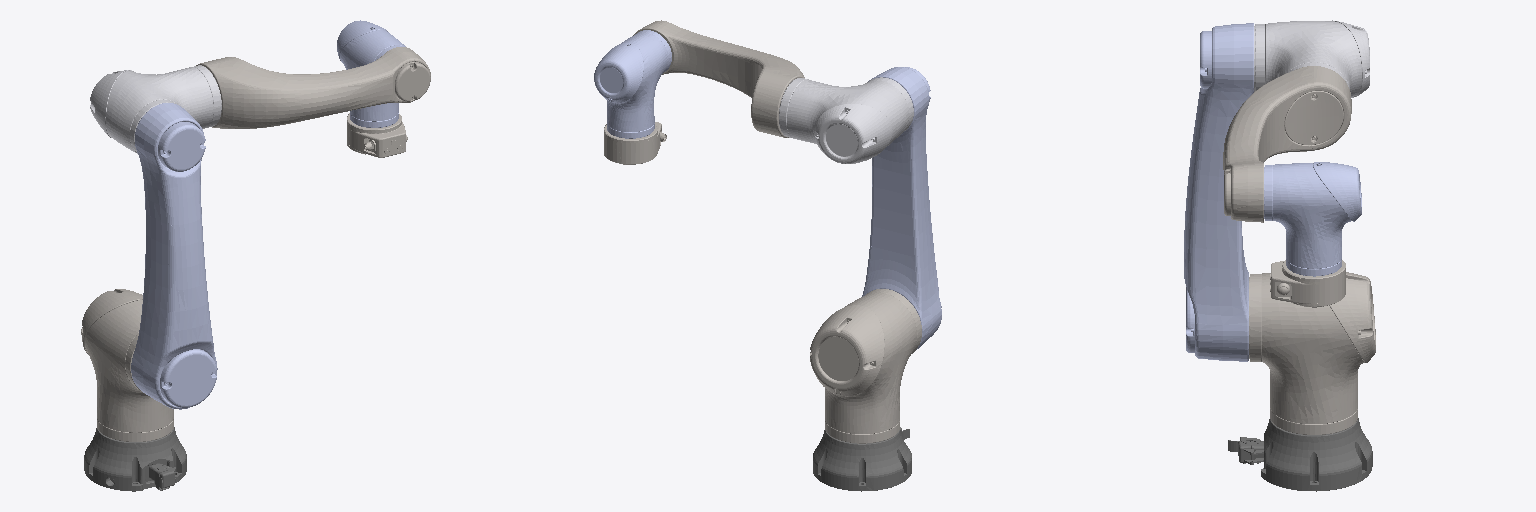
The robot description file, URDF, robot "e05":
<?xml version="1.0" ?>
<!-- =================================================================================== -->
<!-- |    This document was autogenerated by xacro from e05.xacro                      | -->
<!-- |    EDITING THIS FILE BY HAND IS NOT RECOMMENDED                                 | -->
<!-- =================================================================================== -->
<robot name="e05">
  <link name="base_link">
    <inertial>
      <origin rpy="0 0 0" xyz="0.000220925279683056 0.0013404359084179 0.0255287768765201"/>
      <mass value="0.687947665470098"/>
      <inertia ixx="0.00127042942204081" ixy="6.12560900509709E-06" ixz="1.97882529252548E-06" iyy="0.00134134377507574" iyz="1.20065256351553E-05" izz="0.00225644822073791"/>
    </inertial>
    <visual>
      <origin rpy="0 0 0" xyz="0 0 0"/>
      <geometry>
        <mesh filename="package://e05_mujoco/meshes/e05/base_link.STL"/>
      </geometry>
      <material name="">
        <color rgba="0.501960784313725 0.501960784313725 0.501960784313725 1"/>
      </material>
    </visual>
    <collision>
      <origin rpy="0 0 0" xyz="0 0 0"/>
      <geometry>
        <mesh filename="package://e05_mujoco/meshes/e05/base_link.STL"/>
      </geometry>
    </collision>
  </link>
  <link name="link1">
    <inertial>
      <origin rpy="0 0 0" xyz="-0.021817530046653 -1.3461811186172E-05 0.0953928187148821"/>
      <mass value="2.58559317983858"/>
      <inertia ixx="0.0126359214490294" ixy="1.95671999360454E-06" ixz="0.00341757743534139" iyy="0.014361538845938" iyz="1.7981198383057E-06" izz="0.00661175953100069"/>
    </inertial>
    <visual>
      <origin rpy="0 0 0" xyz="0 0 0"/>
      <geometry>
        <mesh filename="package://e05_mujoco/meshes/e05/link1.STL"/>
      </geometry>
      <material name="">
        <color rgba="0.772549019607843 0.752941176470588 0.733333333333333 1"/>
      </material>
    </visual>
    <collision>
      <origin rpy="0 0 0" xyz="0 0 0"/>
      <geometry>
        <mesh filename="package://e05_mujoco/meshes/e05/link1.STL"/>
      </geometry>
    </collision>
  </link>
  <joint name="joint1" type="revolute">
    <!-- <origin xyz="0 0 0.0735" rpy="0 0 0" /> -->
    <origin rpy="0 0 1.5707963267949" xyz="0 0 0.0735"/>
    <parent link="base_link"/>
    <child link="link1"/>
    <axis xyz="0 0 1"/>
    <limit effort="100" lower="-3.14" upper="3.14" velocity="3"/>
  </joint>
  <link name="link2">
    <inertial>
      <origin rpy="0 0 0" xyz="4.42659189303178E-06 -0.15814020171601 0.130500502107941"/>
      <mass value="1.21311220206786"/>
      <inertia ixx="0.0154675665168731" ixy="-1.06933815462951E-06" ixz="-1.18860294267838E-07" iyy="0.00151358792659383" iyz="-0.000483103253081459" izz="0.0159645957037545"/>
    </inertial>
    <visual>
      <origin rpy="0 0 0" xyz="0 0 0"/>
      <geometry>
        <mesh filename="package://e05_mujoco/meshes/e05/link2.STL"/>
      </geometry>
      <material name="">
        <color rgba="0.792156862745098 0.819607843137255 0.933333333333333 1"/>
      </material>
    </visual>
    <collision>
      <origin rpy="0 0 0" xyz="0 0 0"/>
      <geometry>
        <mesh filename="package://e05_mujoco/meshes/e05/link2.STL"/>
      </geometry>
    </collision>
  </link>
  <joint name="joint2" type="revolute">
    <origin rpy="-1.5707963267949 0 1.5707963267949" xyz="0 0 0.146499999728183"/>
    <parent link="link1"/>
    <child link="link2"/>
    <axis xyz="0 0 -1"/>
    <limit effort="100" lower="-3.14" upper="3.14" velocity="3"/>
  </joint>
  <link name="link3">
    <inertial>
      <origin rpy="0 0 0" xyz="-0.0414785547217519 1.14212505951949E-05 0.0194163580548062"/>
      <mass value="1.53239082736874"/>
      <inertia ixx="0.00289257298716264" ixy="3.06530616185161E-07" ixz="-0.00148343229721932" iyy="0.00608825361524431" iyz="-5.7781567767453E-07" izz="0.00514001710646295"/>
    </inertial>
    <visual>
      <origin rpy="0 0 0" xyz="0 0 0"/>
      <geometry>
        <mesh filename="package://e05_mujoco/meshes/e05/link3.STL"/>
      </geometry>
      <material name="">
        <color rgba="0.866666666666667 0.866666666666667 0.890196078431372 1"/>
      </material>
    </visual>
    <collision>
      <origin rpy="0 0 0" xyz="0 0 0"/>
      <geometry>
        <mesh filename="package://e05_mujoco/meshes/e05/link3.STL"/>
      </geometry>
    </collision>
  </link>
  <joint name="joint3" type="revolute">
    <!-- <origin xyz="0 -0.38 0" rpy="0 0 1.57079632679489" /> -->
    <origin rpy="0 0 0" xyz="0 -0.38 0"/>
    <parent link="link2"/>
    <child link="link3"/>
    <axis xyz="0 0 -1"/>
    <limit effort="100" lower="-3.14" upper="3.14" velocity="3"/>
  </joint>
  <link name="link4">
    <inertial>
      <origin rpy="0 0 0" xyz="3.82379731650006E-05 -0.0589656283635258 -0.257080659964351"/>
      <mass value="0.475189116858237"/>
      <inertia ixx="0.00538321597965876" ixy="5.88191352016139E-07" ixz="2.51380819480274E-06" iyy="0.00486407883174174" iyz="-0.0012949821760315" izz="0.00118854539663347"/>
    </inertial>
    <visual>
      <origin rpy="0 0 0" xyz="0 0 0"/>
      <geometry>
        <mesh filename="package://e05_mujoco/meshes/e05/link4.STL"/>
      </geometry>
      <material name="">
        <color rgba="0.772549019607843 0.752941176470588 0.733333333333333 1"/>
      </material>
    </visual>
    <collision>
      <origin rpy="0 0 0" xyz="0 0 0"/>
      <geometry>
        <mesh filename="package://e05_mujoco/meshes/e05/link4.STL"/>
      </geometry>
    </collision>
  </link>
  <joint name="joint4" type="revolute">
    <origin rpy="-1.5707963267949 0 -1.57079632679489" xyz="0 0 0"/>
    <parent link="link3"/>
    <child link="link4"/>
    <axis xyz="0 0 1"/>
    <limit effort="100" lower="-3.14" upper="3.14" velocity="3"/>
  </joint>
  <link name="link5">
    <inertial>
      <origin rpy="0 0 0" xyz="1.42418460181785E-06 0.0365906117084953 -0.0159721548504695"/>
      <mass value="0.811918650983764"/>
      <inertia ixx="0.00229898051081146" ixy="-5.10817363805077E-09" ixz="-4.20348106546399E-08" iyy="0.00102314555994569" iyz="-0.000567279919860914" izz="0.00189010227085576"/>
    </inertial>
    <visual>
      <origin rpy="0 0 0" xyz="0 0 0"/>
      <geometry>
        <mesh filename="package://e05_mujoco/meshes/e05/link5.STL"/>
      </geometry>
      <material name="">
        <color rgba="0.792156862745098 0.819607843137255 0.933333333333333 1"/>
      </material>
    </visual>
    <collision>
      <origin rpy="0 0 0" xyz="0 0 0"/>
      <geometry>
        <mesh filename="package://e05_mujoco/meshes/e05/link5.STL"/>
      </geometry>
    </collision>
  </link>
  <joint name="joint5" type="revolute">
    <!-- <origin xyz="0 0 -0.42" rpy="-1.5708 0 0" /> -->
    <origin rpy="-1.5708 1.5708 0" xyz="0 0 -0.42"/>
    <parent link="link4"/>
    <child link="link5"/>
    <axis xyz="0 0 1"/>
    <limit effort="100" lower="-3.14" upper="3.14" velocity="3"/>
  </joint>
  <link name="link6">
    <inertial>
      <origin rpy="0 0 0" xyz="-3.20651942295259E-05 0.00725491905169374 -0.0214379588098472"/>
      <mass value="0.113428742525395"/>
      <inertia ixx="7.66530651028687E-05" ixy="-1.83940830200086E-07" ixz="4.80935616864806E-08" iyy="7.49230724493532E-05" iyz="2.34293413050866E-06" izz="0.000127800814887741"/>
    </inertial>
    <visual>
      <origin rpy="0 0 0" xyz="0 0 0"/>
      <geometry>
        <mesh filename="package://e05_mujoco/meshes/e05/link6.STL"/>
      </geometry>
      <material name="">
        <color rgba="0.776470588235294 0.756862745098039 0.737254901960784 1"/>
      </material>
    </visual>
    <collision>
      <origin rpy="0 0 0" xyz="0 0 0"/>
      <geometry>
        <mesh filename="package://e05_mujoco/meshes/e05/link6.STL"/>
      </geometry>
    </collision>
  </link>
  <joint name="joint6" type="revolute">
    <origin rpy="-1.5708 0 0" xyz="0 0.155 0"/>
    <parent link="link5"/>
    <child link="link6"/>
    <axis xyz="0 0 -1"/>
    <limit effort="100" lower="-3.14" upper="3.14" velocity="3"/>
  </joint>
  <link name="ee_link">
    <visual>
      <origin rpy="0 0 0" xyz="0 0 0"/>
      <geometry>
        <sphere radius="0.01"/>
        <!-- You can use any simple geometry like a sphere for visualization -->
      </geometry>
      <material name="">
        <color rgba="1 0 0 1"/>
        <!-- Choose a color for visualization -->
      </material>
    </visual>
  </link>
  <joint name="ee_joint" type="fixed">
    <origin rpy="0 0 0" xyz="0 0 0"/>
    <parent link="link6"/>
    <child link="ee_link"/>
  </joint>
  <disable_collisions link1="base_link" link2="link1" reason="Adjacent"/>
  <gazebo>
    <plugin filename="libgazebo_ros_control.so" name="ros_control">
      <!--robotNamespace>/</robotNamespace-->
      <!--robotSimType>gazebo_ros_control/DefaultRobotHWSim</robotSimType-->
    </plugin>
    <!--
    <plugin name="gazebo_ros_power_monitor_controller" filename="libgazebo_ros_power_monitor.so">
      <alwaysOn>true</alwaysOn>
      <updateRate>1.0</updateRate>
      <timeout>5</timeout>
      <powerStateTopic>power_state</powerStateTopic>
      <powerStateRate>10.0</powerStateRate>
      <fullChargeCapacity>87.78</fullChargeCapacity>     
      <dischargeRate>-474</dischargeRate>
      <chargeRate>525</chargeRate>
      <dischargeVoltage>15.52</dischargeVoltage>
      <chargeVoltage>16.41</chargeVoltage>
    </plugin>
-->
  </gazebo>
  <transmission name="tran1">
    <type>transmission_interface/SimpleTransmission</type>
    <joint name="joint1">
      <hardwareInterface>hardware_interface/PositionJointInterface</hardwareInterface>
    </joint>
    <actuator name="motor1">
      <hardwareInterface>hardware_interface/PositionJointInterface</hardwareInterface>
      <mechanicalReduction>1</mechanicalReduction>
    </actuator>
  </transmission>
  <transmission name="tran1">
    <type>transmission_interface/SimpleTransmission</type>
    <joint name="joint2">
      <hardwareInterface>hardware_interface/PositionJointInterface</hardwareInterface>
    </joint>
    <actuator name="motor1">
      <hardwareInterface>hardware_interface/PositionJointInterface</hardwareInterface>
      <mechanicalReduction>1</mechanicalReduction>
    </actuator>
  </transmission>
  <transmission name="tran1">
    <type>transmission_interface/SimpleTransmission</type>
    <joint name="joint3">
      <hardwareInterface>hardware_interface/PositionJointInterface</hardwareInterface>
    </joint>
    <actuator name="motor1">
      <hardwareInterface>hardware_interface/PositionJointInterface</hardwareInterface>
      <mechanicalReduction>1</mechanicalReduction>
    </actuator>
  </transmission>
  <transmission name="tran1">
    <type>transmission_interface/SimpleTransmission</type>
    <joint name="joint4">
      <hardwareInterface>hardware_interface/PositionJointInterface</hardwareInterface>
    </joint>
    <actuator name="motor1">
      <hardwareInterface>hardware_interface/PositionJointInterface</hardwareInterface>
      <mechanicalReduction>1</mechanicalReduction>
    </actuator>
  </transmission>
  <transmission name="tran1">
    <type>transmission_interface/SimpleTransmission</type>
    <joint name="joint5">
      <hardwareInterface>hardware_interface/PositionJointInterface</hardwareInterface>
    </joint>
    <actuator name="motor1">
      <hardwareInterface>hardware_interface/PositionJointInterface</hardwareInterface>
      <mechanicalReduction>1</mechanicalReduction>
    </actuator>
  </transmission>
  <transmission name="tran1">
    <type>transmission_interface/SimpleTransmission</type>
    <joint name="joint6">
      <hardwareInterface>hardware_interface/PositionJointInterface</hardwareInterface>
    </joint>
    <actuator name="motor1">
      <hardwareInterface>hardware_interface/PositionJointInterface</hardwareInterface>
      <mechanicalReduction>1</mechanicalReduction>
    </actuator>
  </transmission>

</robot>

--- What the picture shows (computed from the rendered views, not written in the file) ---
Views: 3 orthographic renders of the robot side by side, from view 1: azimuth 30°, elevation 25°; view 2: azimuth 150°, elevation 25°; view 3: azimuth 270°, elevation 25°.
Model e05 with 8 links and 7 joints (6 revolute, 1 fixed), rooted at base_link, posed every joint at zero.
Visible links, largest first — view 1: link2, link4, link1, link3, base_link, link5, link6; view 2: link1, link2, link3, link4, link5, base_link, link6; view 3: link2, link1, link4, link5, base_link, link3, link6.
Link boxes in pixels (x1,y1,x2,y2): link2: (131,103,217,409); link4: (196,47,430,128); link1: (81,289,173,441); link3: (90,65,221,153); base_link: (84,427,186,491); link5: (337,20,405,127); link6: (347,113,407,157); link1: (810,289,921,443); link2: (862,67,941,349); link3: (779,77,913,163); link4: (633,20,804,137); link5: (594,30,671,138); base_link: (813,427,911,491); link6: (604,122,666,164); link2: (1184,23,1253,361); link1: (1249,272,1375,434); link4: (1223,66,1351,222); link5: (1264,162,1361,276); base_link: (1228,418,1372,491); link3: (1254,20,1369,97); link6: (1270,260,1345,307).
Bounding box of the posed robot: 0.5404 × 0.2571 × 0.6524 m (x, y, z).
7 mesh visuals loaded from 7 distinct referenced files (7 binary STL).
